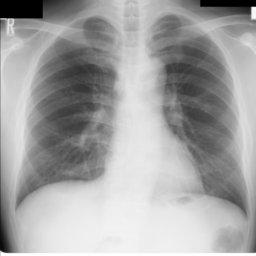left lobe: (149, 15, 246, 212)
right lobe: (17, 18, 120, 204)
